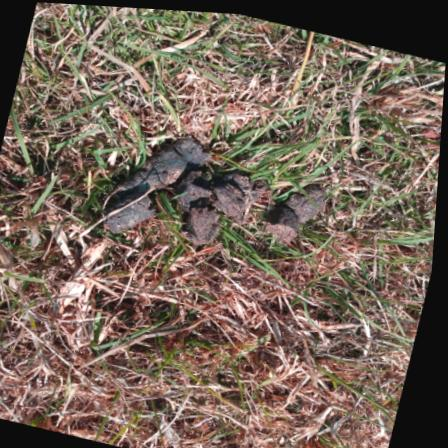dog-poop: (85, 114, 343, 287)
